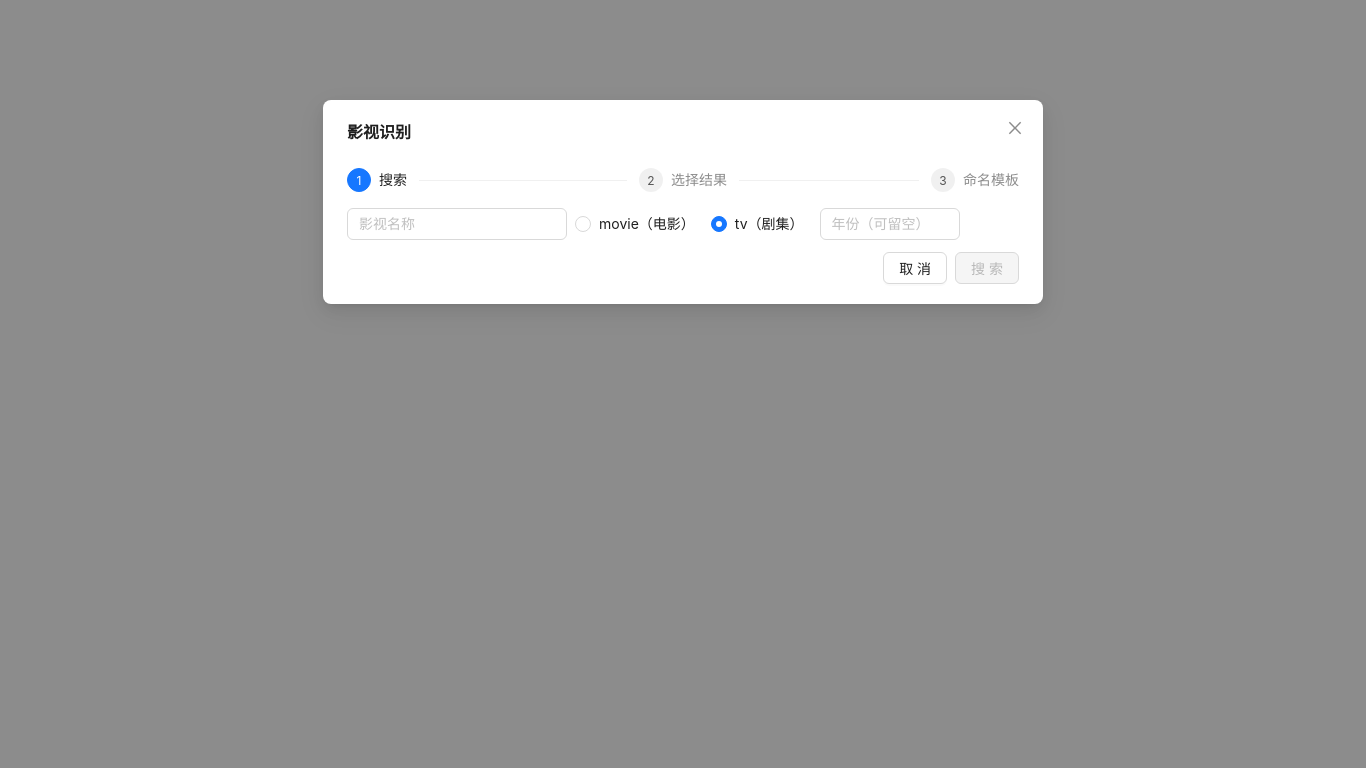
it: 搜索错误显示后端 error
Click the field with placeholder "影视名称".
click(457, 224)  # box [347,208,567,240]
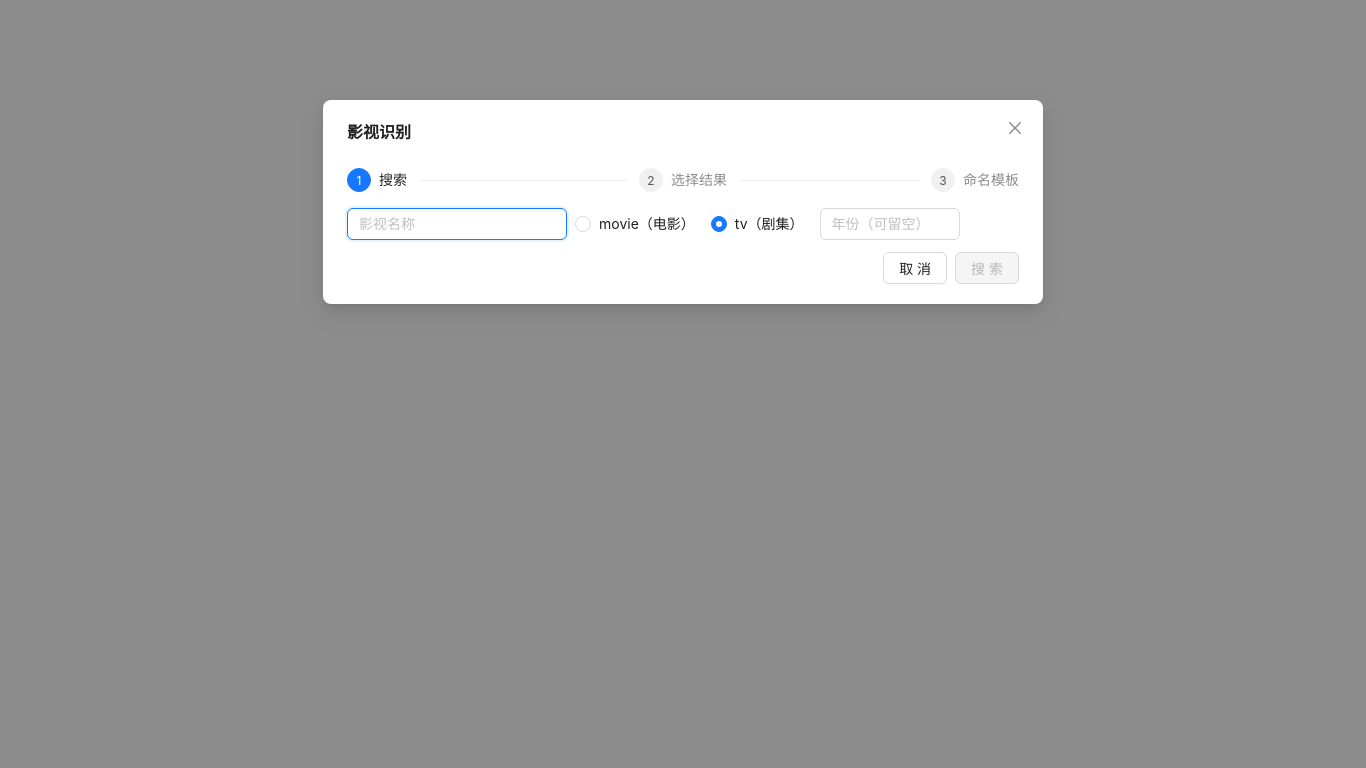
Type keys "示例"
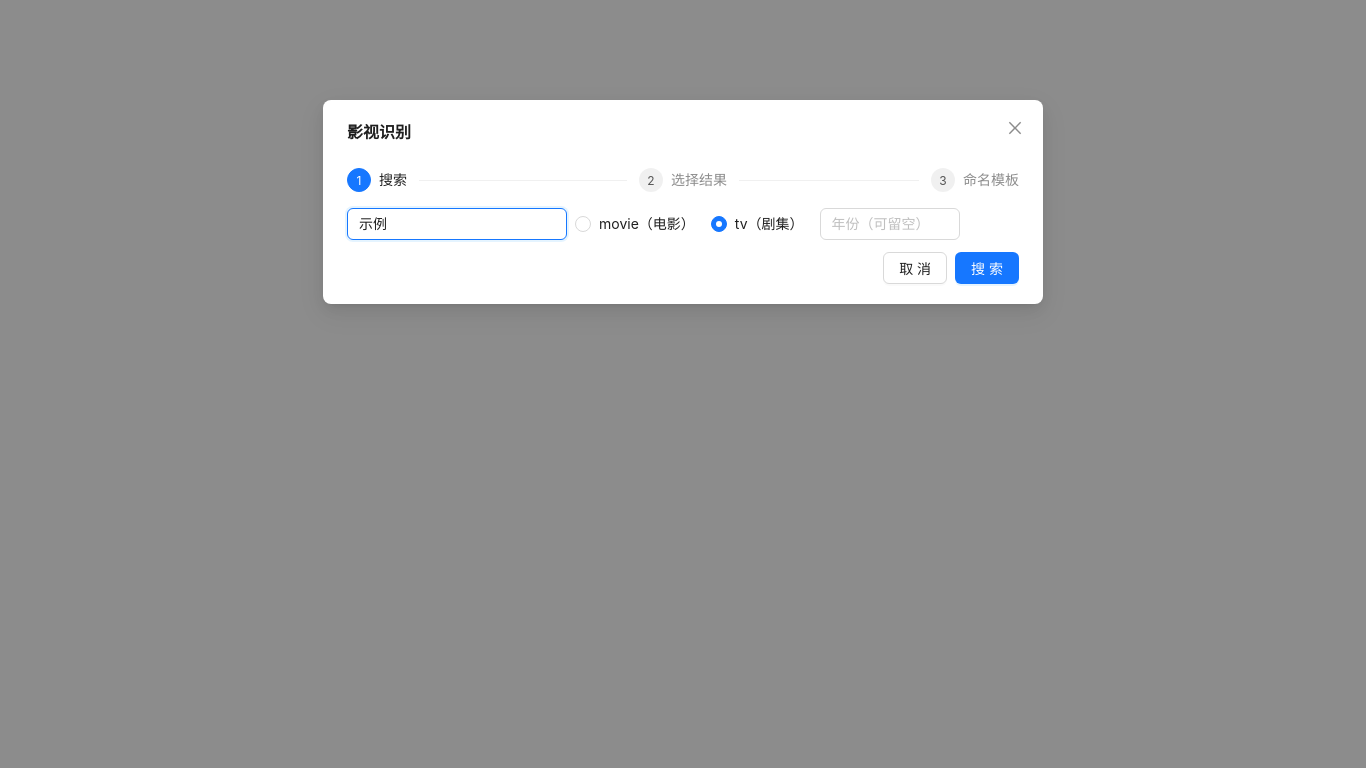
Click the button "搜 索".
click(987, 268)  # box [955,252,1019,284]
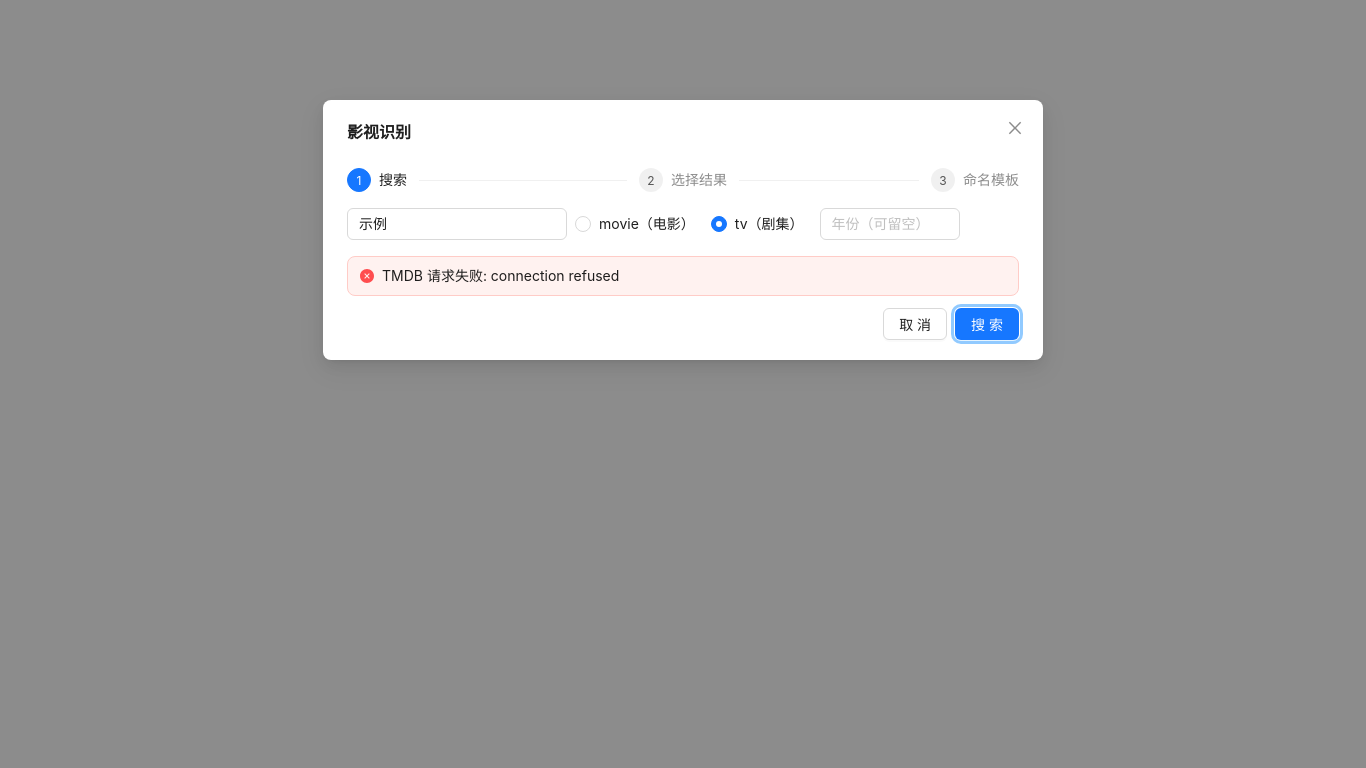
Expected: the field with placeholder "影视名称" is shown, [347,208,567,240]
Expected: the text "TMDB 请求失败: connection refused" is shown, [382,267,619,284]
